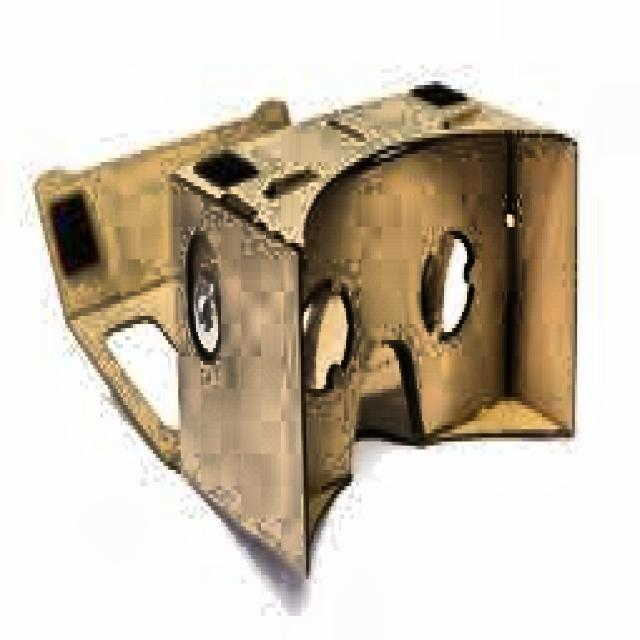cardboard: (32, 76, 578, 580)
